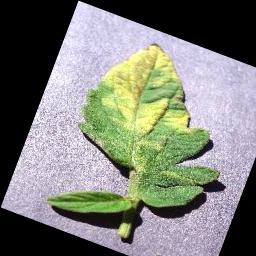Leaf_Mold: (84, 28, 218, 160)
